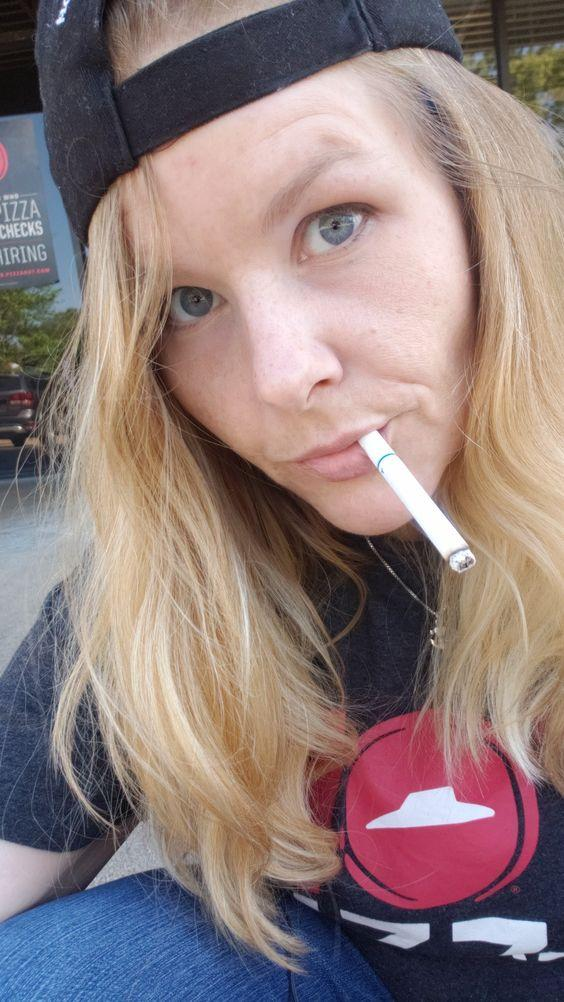cigarette: (357, 429, 475, 573)
